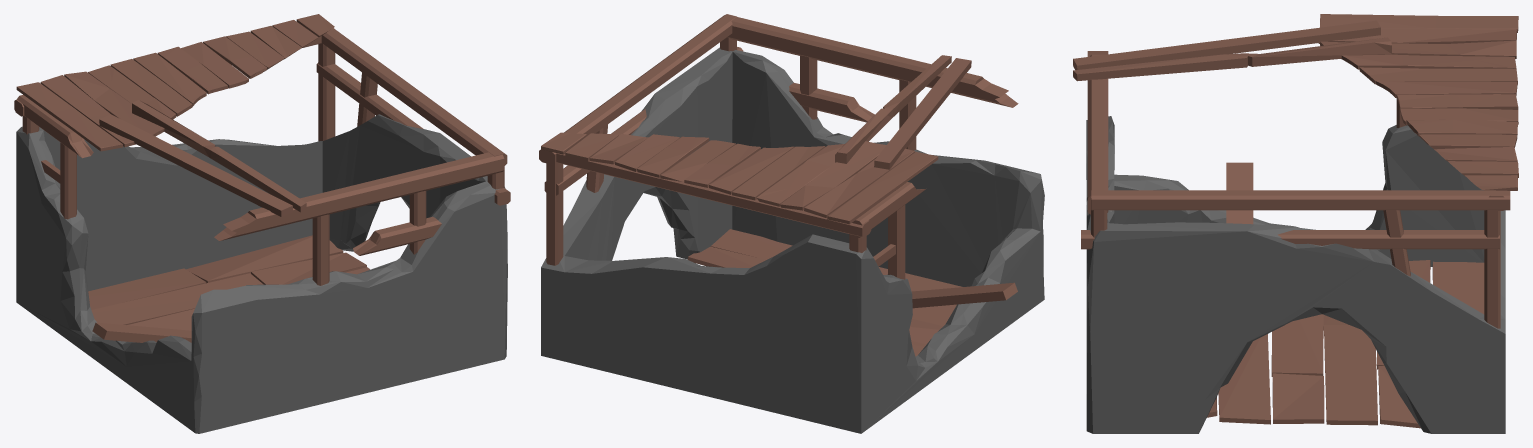
Rendered from Ruin01.fbx.
3 renders of one model, left to right at view 1: azimuth 30°, elevation 25°; view 2: azimuth 150°, elevation 25°; view 3: azimuth 270°, elevation 25°, orthographic. The views are drawn at different scales.
Visible parts, largest first — view 1: civilian_house_ruin_a; view 2: civilian_house_ruin_a; view 3: civilian_house_ruin_a.
Part boxes in pixels (bbox=[...]): civilian_house_ruin_a: bbox=[14, 14, 510, 433]; civilian_house_ruin_a: bbox=[539, 14, 1044, 433]; civilian_house_ruin_a: bbox=[1073, 14, 1518, 433].
Size of the model in its own units: 663 by 413 by 638.
